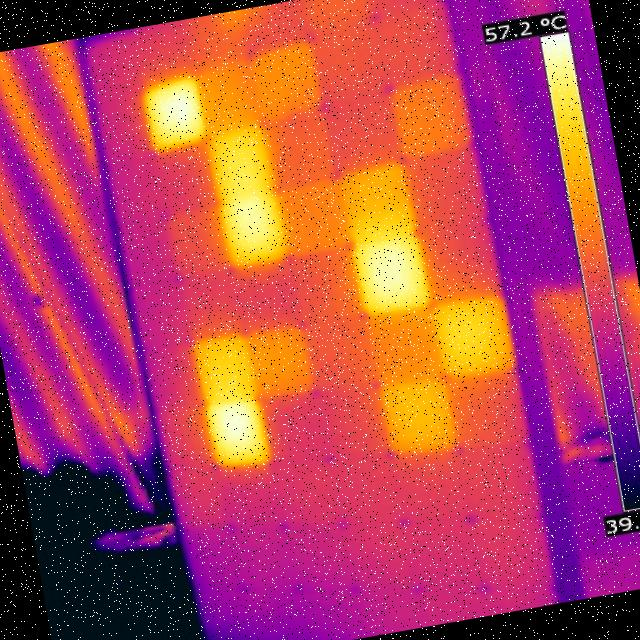Hotspot: (330, 154, 438, 322), (194, 120, 300, 280), (180, 326, 274, 474), (368, 366, 466, 477), (429, 286, 521, 386), (133, 74, 210, 156)
